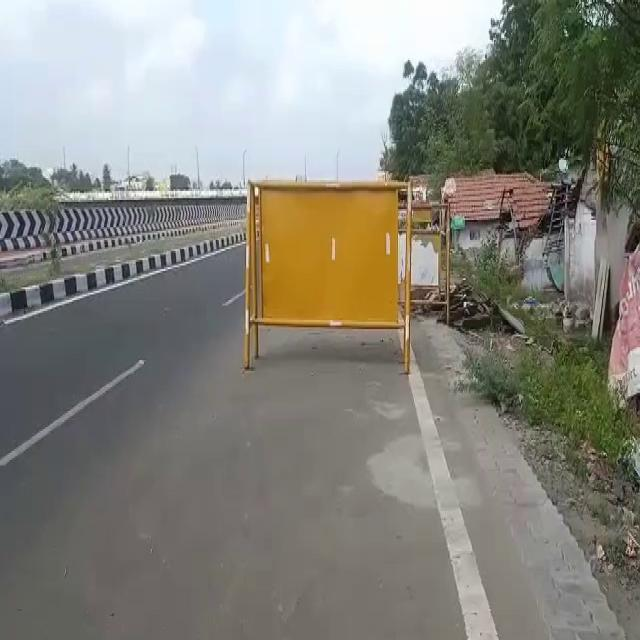fallen_object: (215, 157, 435, 375)
